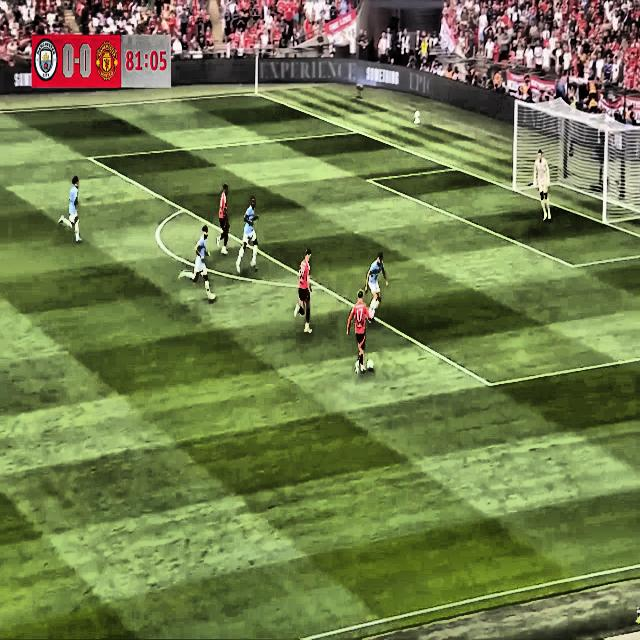ball: (364, 357, 378, 377)
goal_keeper: (531, 146, 558, 226)
players: (176, 225, 219, 305), (344, 285, 374, 376), (234, 194, 263, 275), (292, 246, 317, 336), (366, 247, 391, 331), (214, 182, 238, 260), (59, 178, 82, 246)
